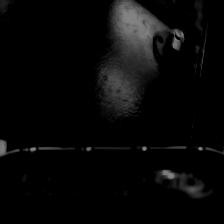Lock: (154, 28, 190, 72)
